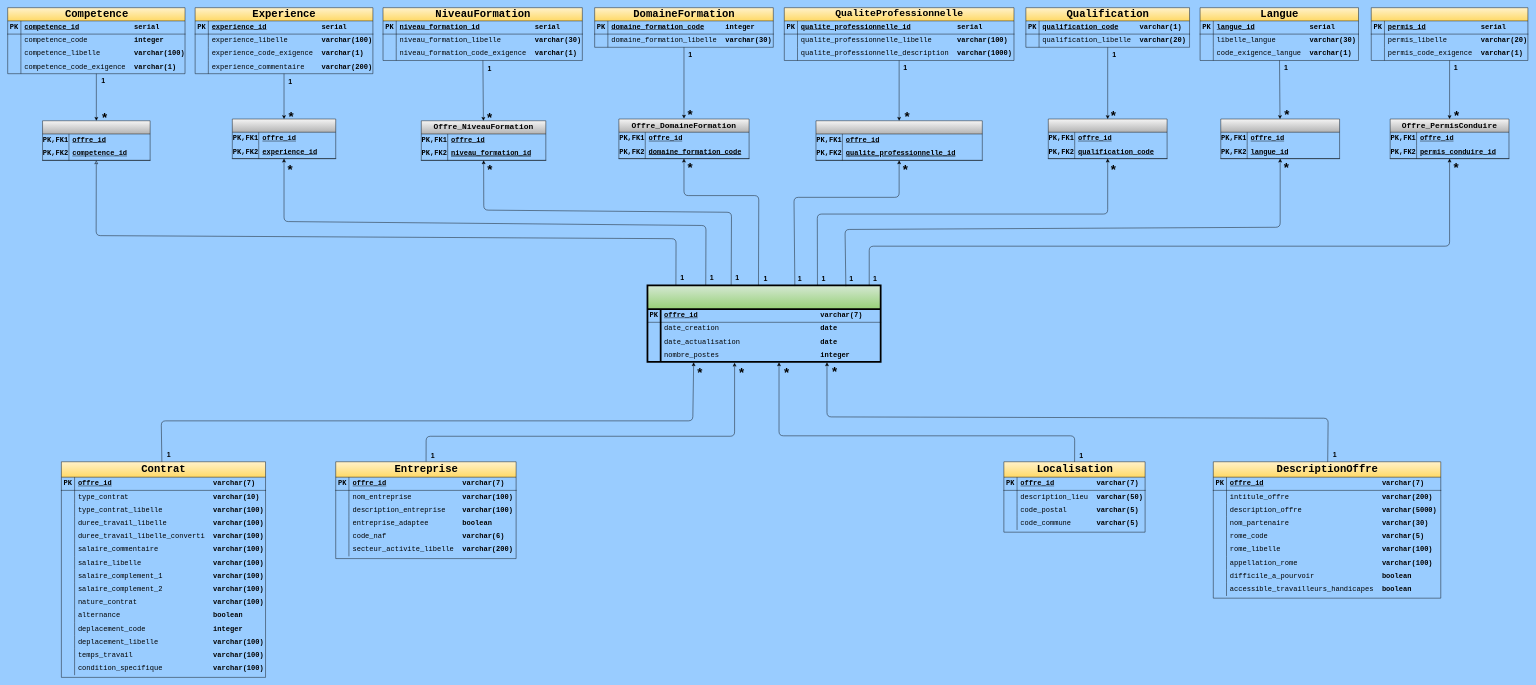
Some shapes in this 1536 by 685 pixel diagram are drawn without their labels. Here are the shapes that lost their labels. From the top down, the box of each, then its label:
(1371, 7, 1528, 60): PermisConduire
(42, 120, 150, 160): Offre_Competence
(232, 119, 336, 159): Offre_Experience
(816, 120, 982, 160): Offre_QualiteProfessionnelle
(1048, 119, 1167, 159): Offre_Qualification
(1220, 119, 1340, 159): Offre_Langue
(646, 284, 881, 363): OffreEmploi
